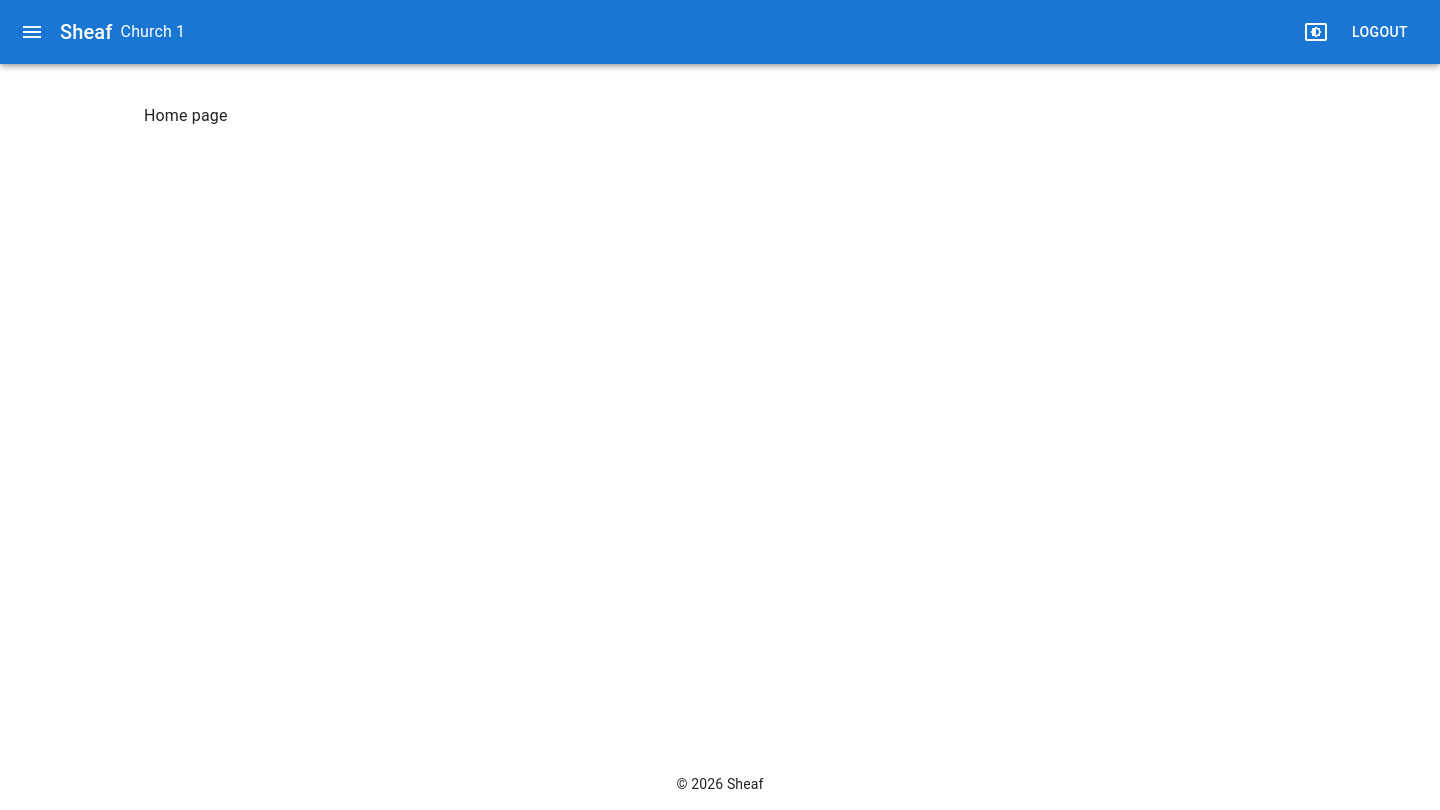
Scenario: Layout › Layout_SignedInToOneChurch_ShowsChurchNameAndChurchLabelsInNavigation
expect the text "Church 1" is shown: met, box [121, 18, 185, 46]
Click the button named "Open navigation" at [32, 32], box [12, 12, 52, 52]
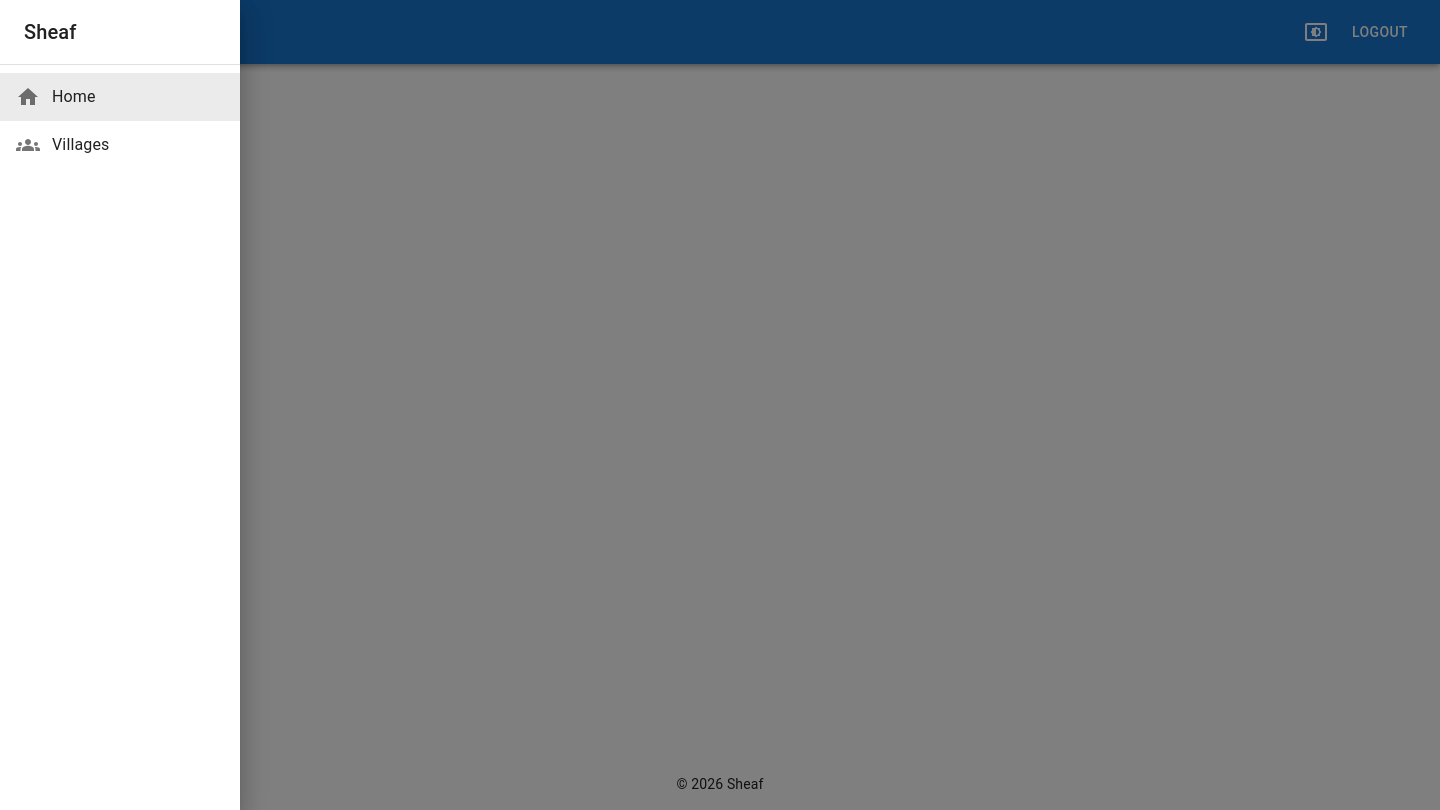
expect the text "Villages" is shown: met, box [52, 135, 110, 154]
